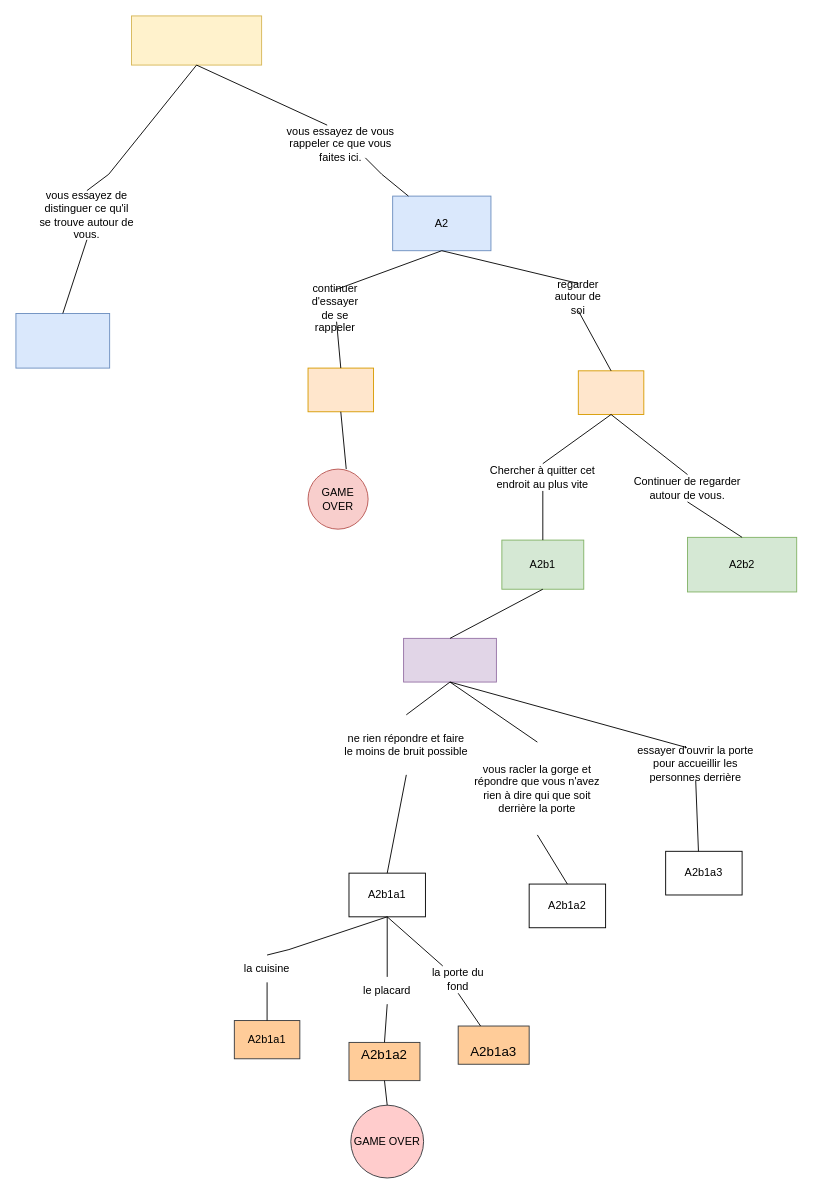
Some shapes in this 813 by 1194 pixel diagram are drawn without their labels. Each missing label, with the centre of its shape:
"A1" goes at point 62,340.
"A2a" goes at point 340,389.
"A2b" goes at point 610,392.
"A2b1a" goes at point 449,659.
"Page de présentation du jeu ( Résumé, crédits ... )" goes at point 196,40.
